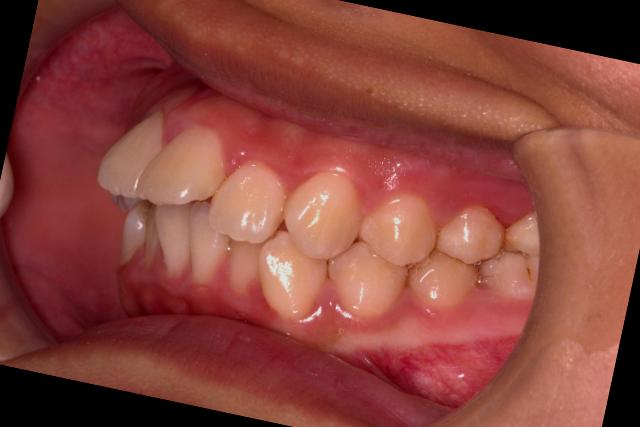canine class II 1/4: (246, 156, 427, 348)
